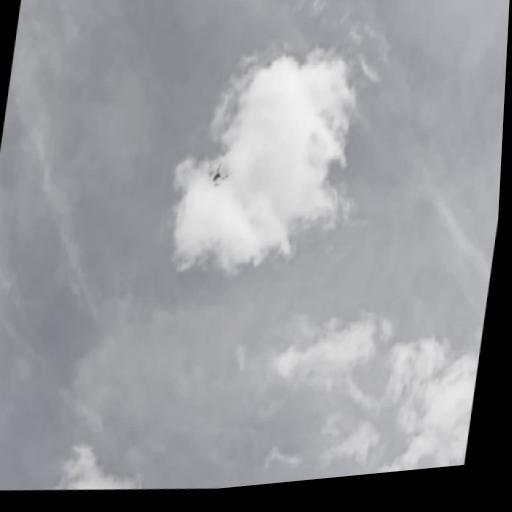drones: (207, 152, 233, 194)
